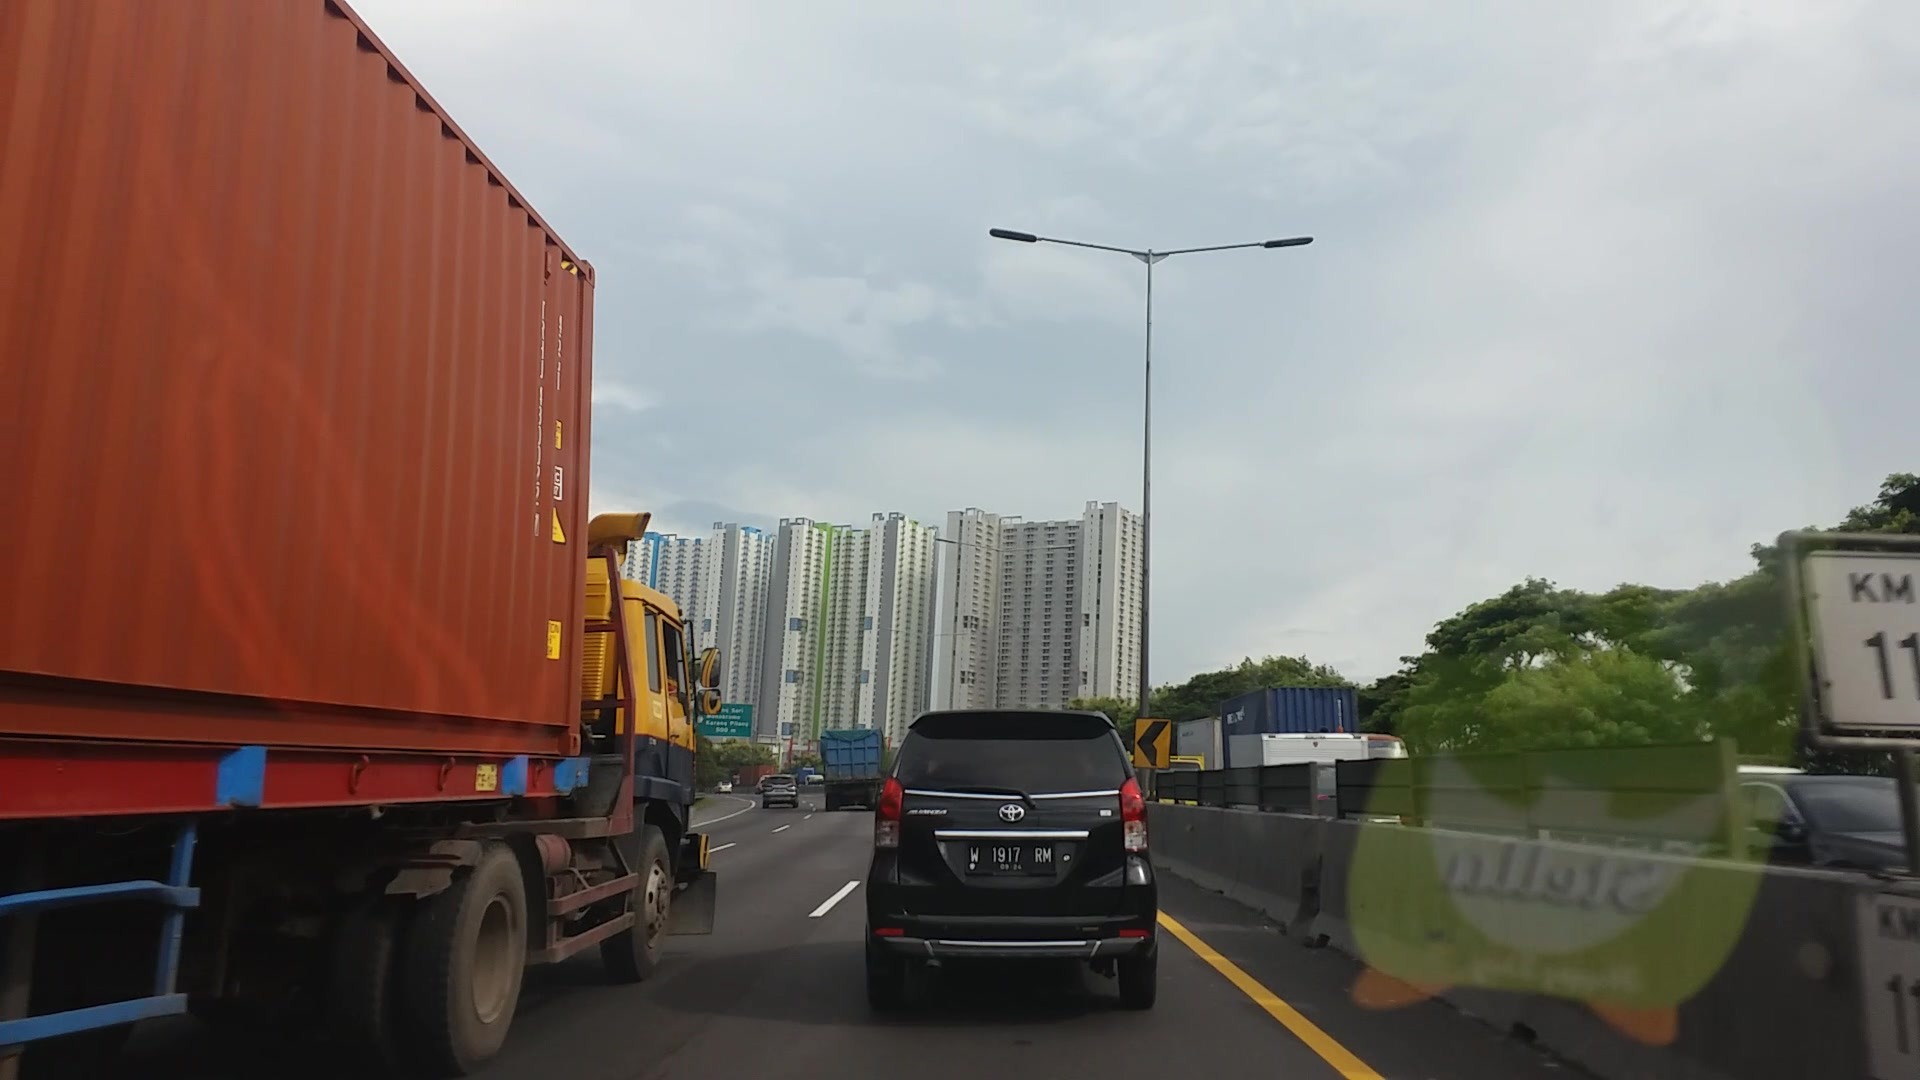plate_positive: (967, 840, 1056, 876)
